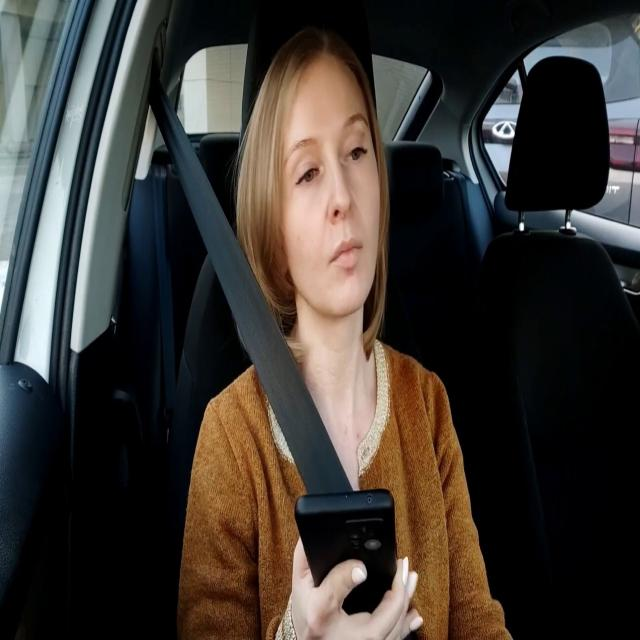phone: (293, 484, 399, 617)
